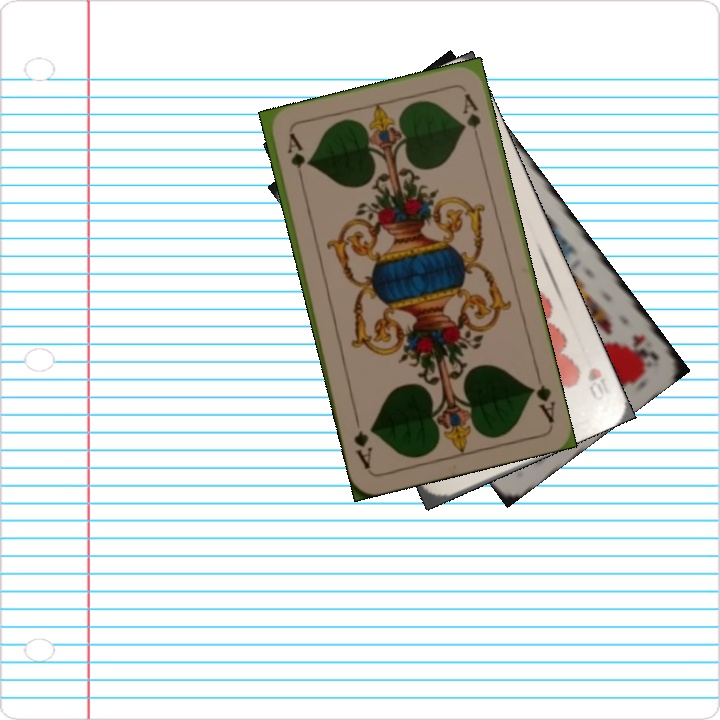GA: (525, 367, 558, 426), (283, 129, 307, 188)
H10: (583, 363, 609, 404)
HK: (627, 330, 661, 367)
